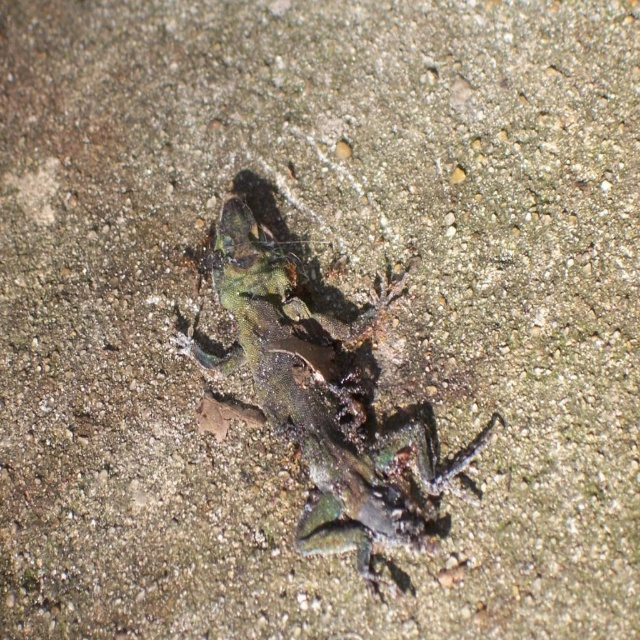Lizard: (174, 187, 509, 594)
